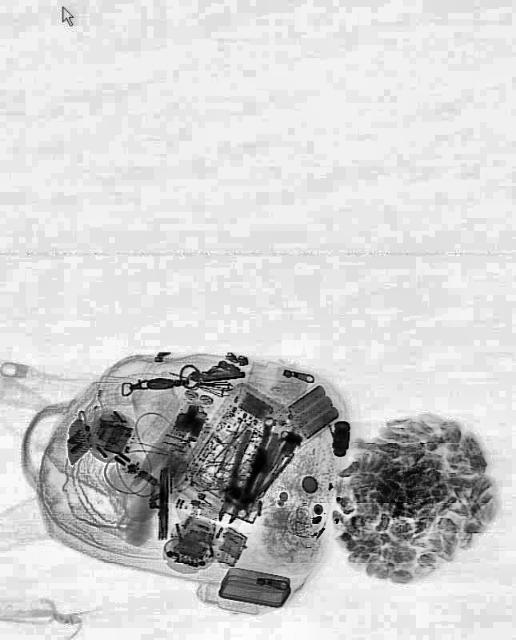Pliers: (205, 427, 283, 533)
Wrench: (236, 414, 276, 522)
